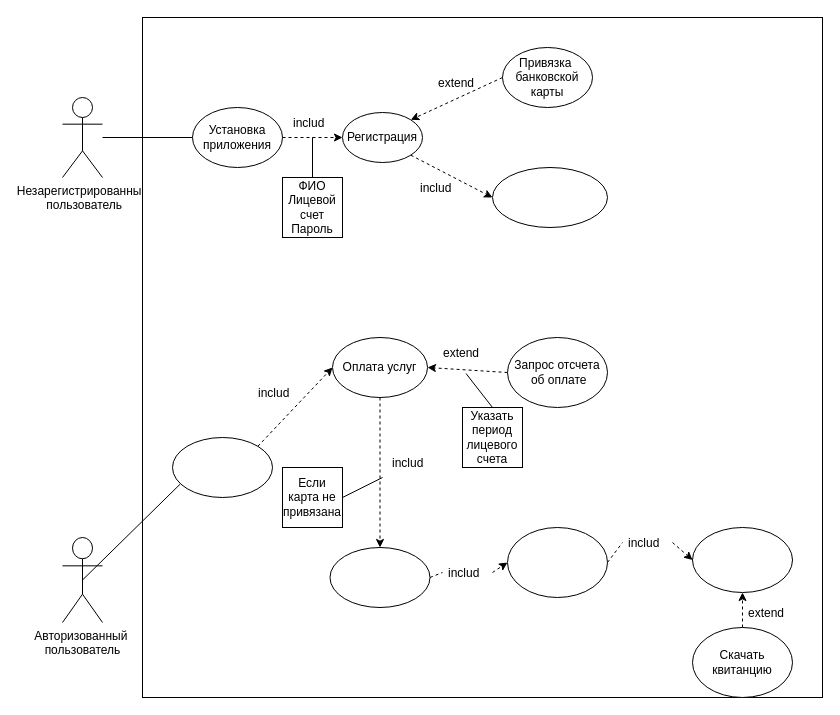
This 840x715 diagram has some shape labels left out. The centre of each missing label's shape, as x and y in pixels:
"Авторизация" belongs at point (550, 197).
"Ввод данный банковской карты" belongs at point (379, 577).
"Ввод показаний счетчика" belongs at point (222, 467).
"Подтверждение оплаты" belongs at point (557, 562).
"Формирование квитанции" belongs at point (742, 559).
